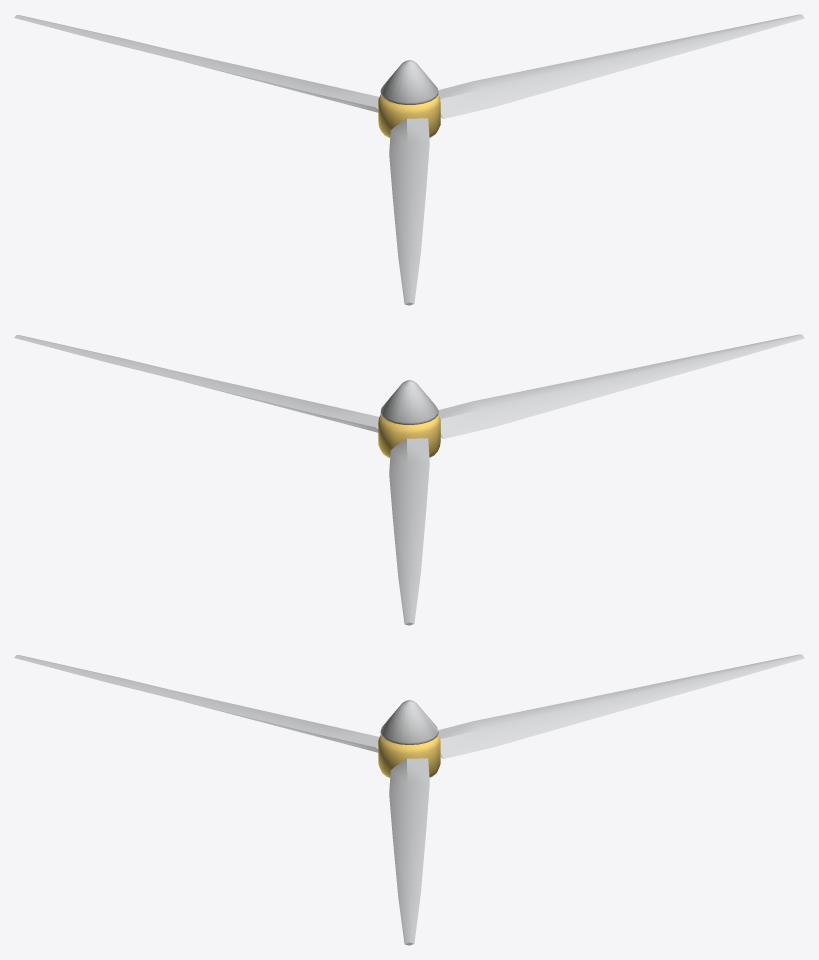
Rendered from wind_rotor.glb.
The picture shows the model from 3 angles, top to bottom: view 1: azimuth 30°, elevation 25°; view 2: azimuth 150°, elevation 25°; view 3: azimuth 270°, elevation 25°; orthographic projection.
Visible parts, largest first — view 1: Rotor; view 2: Rotor; view 3: Rotor.
Boxes of the visible parts, bbox=[...] form: Rotor: bbox=[14, 14, 804, 305]; Rotor: bbox=[14, 334, 804, 625]; Rotor: bbox=[14, 654, 804, 945].
Size of the model in its own units: 4.83 by 0.545 by 5.58.
